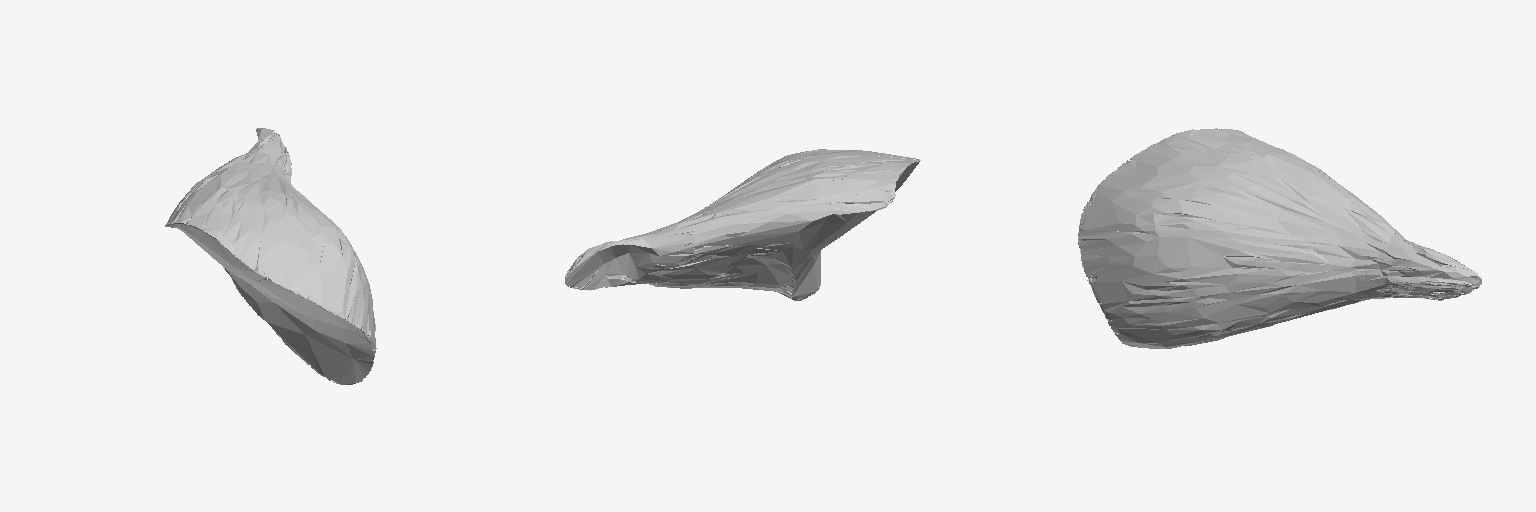
The model's file is FJ139_BP2797_FMA22333_Left_gluteus_minimus.obj.
3 views of the same model, side by side, from view 1: azimuth 30°, elevation 25°; view 2: azimuth 150°, elevation 25°; view 3: azimuth 270°, elevation 25° (orthographic).
Visible parts, largest first — view 1: FJ139_BP2797_FMA22333_Left_gluteus_minimus; view 2: FJ139_BP2797_FMA22333_Left_gluteus_minimus; view 3: FJ139_BP2797_FMA22333_Left_gluteus_minimus.
Part boxes in pixels (x1,y1,x2,y2): FJ139_BP2797_FMA22333_Left_gluteus_minimus: (165,128,376,384); FJ139_BP2797_FMA22333_Left_gluteus_minimus: (565,149,920,300); FJ139_BP2797_FMA22333_Left_gluteus_minimus: (1078,128,1481,348).
Bounding box in the file's own units: 80.23 × 58.66 × 130.